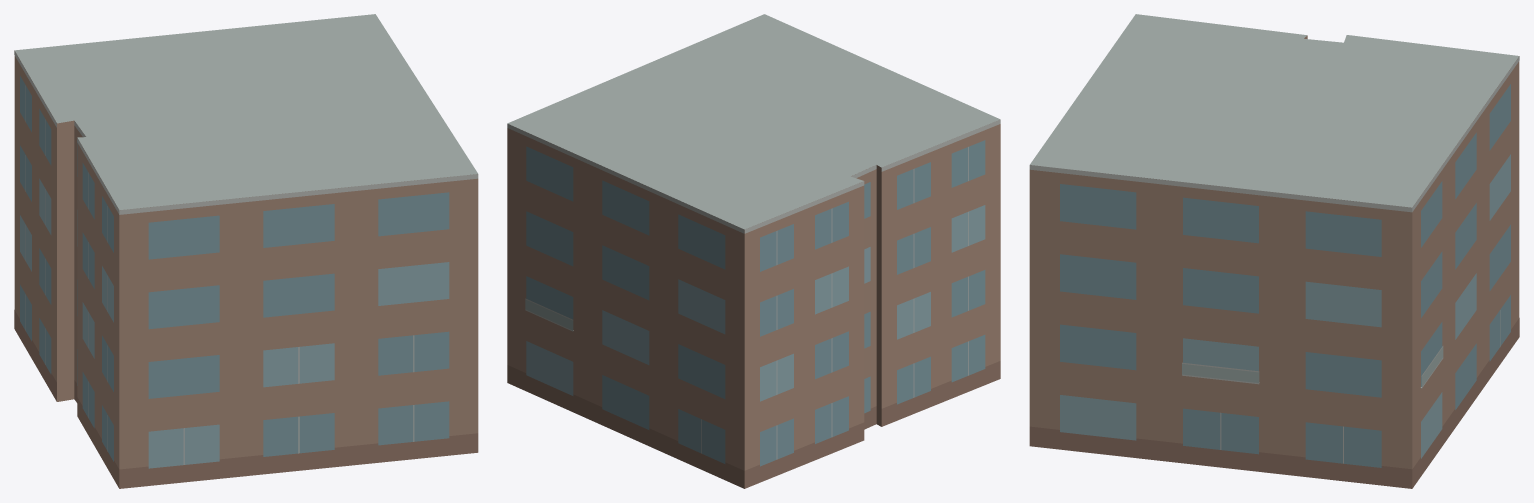
File: survey-upis-32721697.glb
The picture shows the model from 3 angles, left to right: view 1: azimuth 30°, elevation 25°; view 2: azimuth 150°, elevation 25°; view 3: azimuth 270°, elevation 25°; orthographic projection. The views are drawn at different scales.
Parts seen in each view (by area): view 1: survey-upis-32721697.tmp; view 2: survey-upis-32721697.tmp; view 3: survey-upis-32721697.tmp.
Boxes of the visible parts, <box> form: survey-upis-32721697.tmp: <box>14,14,478,488</box>; survey-upis-32721697.tmp: <box>507,14,1000,488</box>; survey-upis-32721697.tmp: <box>1029,14,1519,488</box>.
Bounding box in the file's own units: 21.42 × 14.5 × 22.9.
